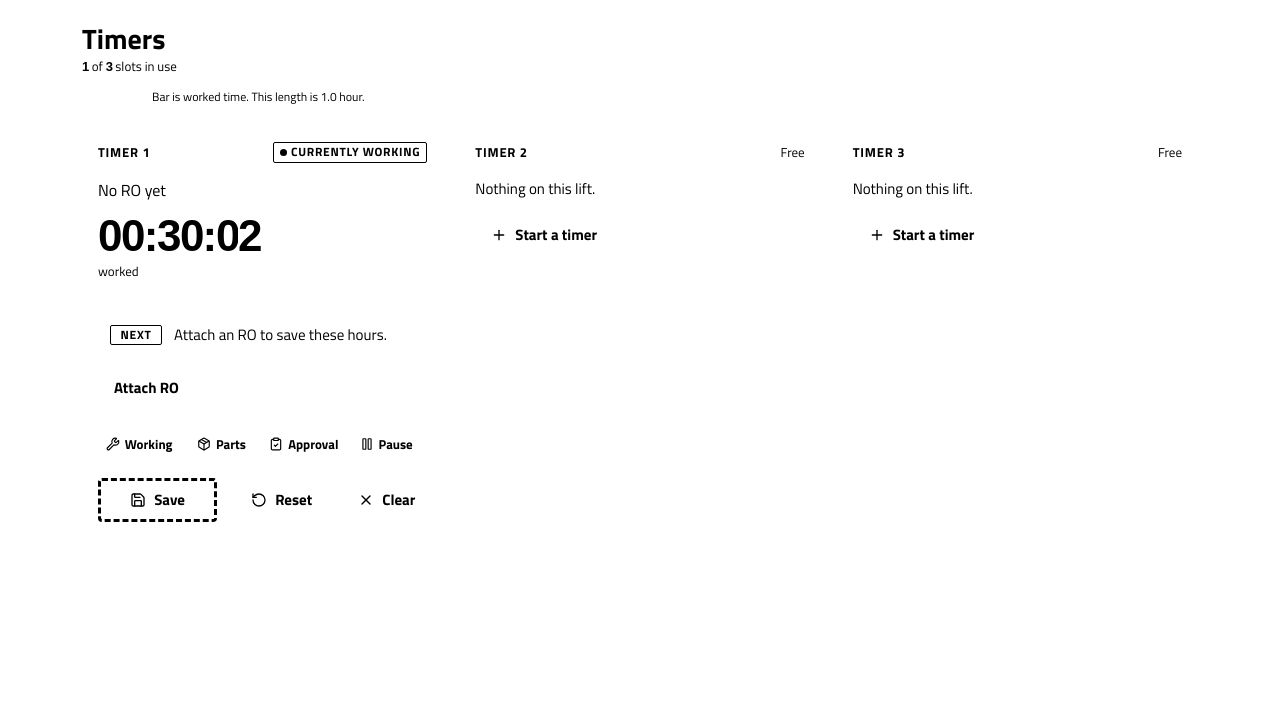
Test: TimerSlots — a timer with no RO › shows the refusal an attach returns
Click the button "Attach RO". click: {"x": 146, "y": 388}
box: [98,366,195,410]
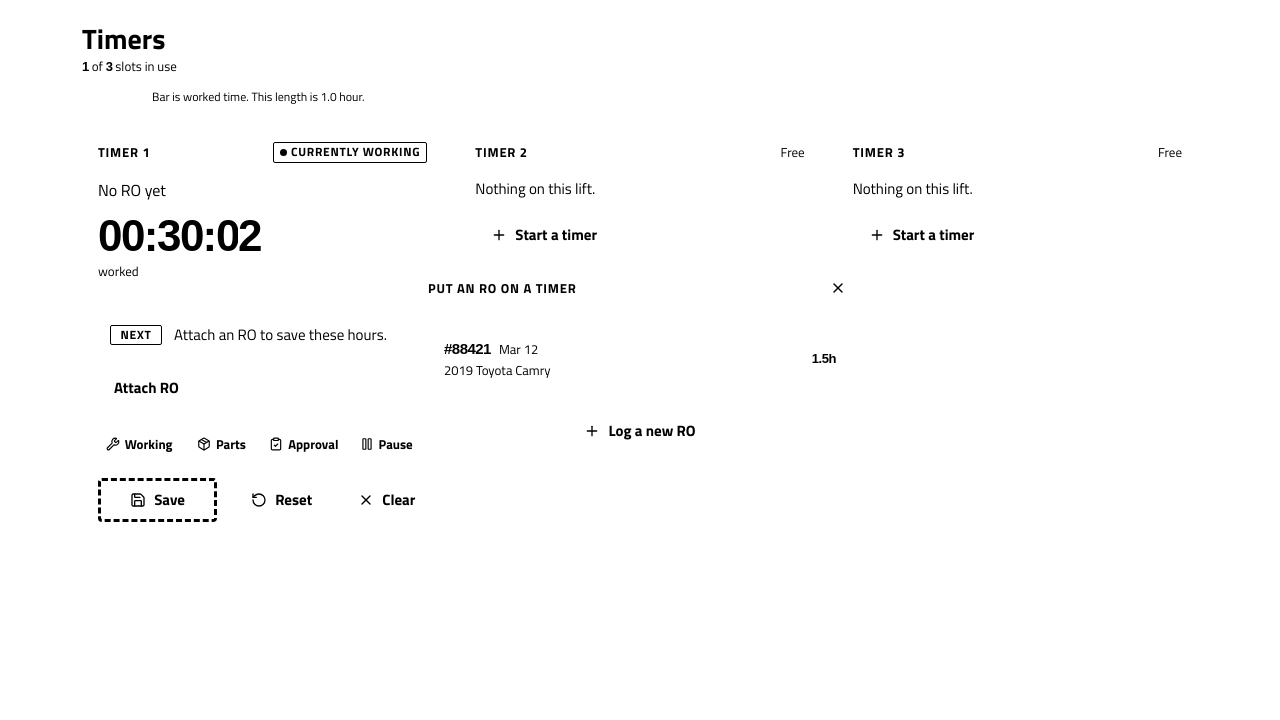
Expected: the heading "Put an RO on a timer" is shown, [428,278,577,298]
Click the button "#88421 Mar 12 2019 Toyota Camry 1.5h". click: {"x": 471, "y": 348}
box: [432,330,848,388]
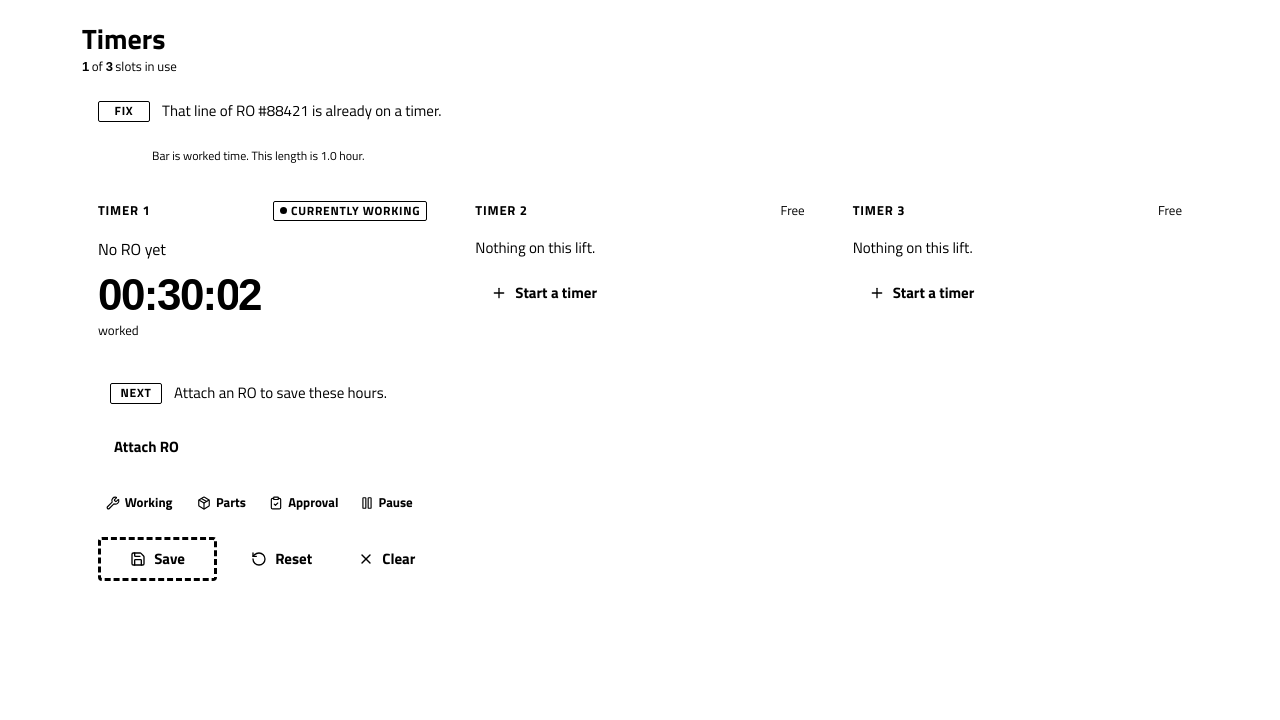
Expected: the text "That line of RO #88421 is already on a timer." is shown, [162,99,442,122]
